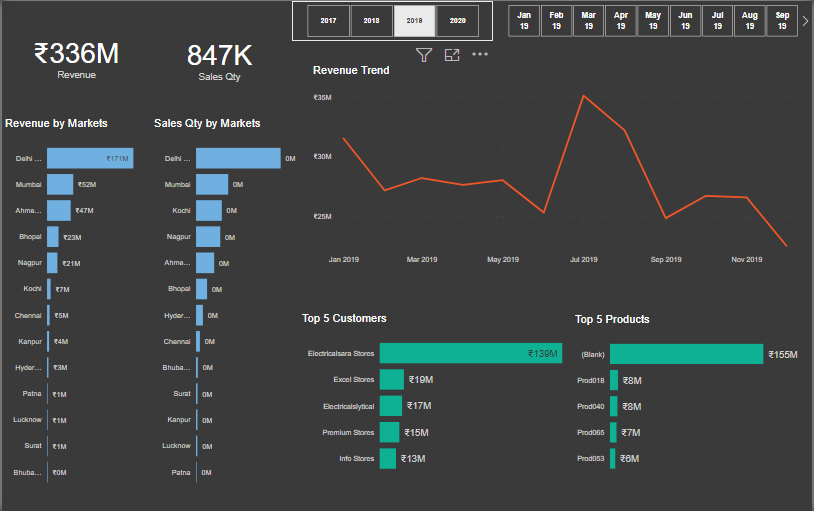

Layout of this report page (visuals, bound fields, positions):
{"tool":"powerbi","page":{"name":"Key Insights","canvas":[1350,850],"ordinal":0},"visuals":[{"type":"card","fields":{"Values":["BaseMeasures (2).Revenue"]},"box":[0,0,247.9,184.6],"z":0},{"type":"card","fields":{"Values":["BaseMeasures (2).Sales Qty"]},"box":[247.9,0,227.9,193.1],"z":1000},{"type":"barChart","title":"Revenue by Markets","fields":{"Y":["BaseMeasures (2).Revenue"],"Category":["sales markets.markets_name"]},"box":[0,193.1,247.9,631.9],"z":2000},{"type":"barChart","title":"Sales Qty by Markets","fields":{"Y":["BaseMeasures (2).Sales Qty"],"Category":["sales markets.markets_name"]},"box":[247.9,193.1,247.9,631.9],"z":3000},{"type":"slicer","fields":{"Values":["sales date.year"]},"box":[483.3,0,335,66.7],"z":4000},{"type":"slicer","fields":{"Values":["sales date.cy_date"]},"box":[818.6,0,531.7,66.5],"z":5000},{"type":"barChart","title":"Top 5 Customers","fields":{"Y":["BaseMeasures (2).Revenue"],"Category":["sales customers.custmer_name"]},"box":[495,518.3,446.7,285],"z":6000},{"type":"barChart","title":"Top 5 Products","fields":{"Y":["BaseMeasures (2).Revenue"],"Category":["sales products.product_code"]},"box":[950.7,519.2,399.5,282.8],"z":7000},{"type":"lineChart","title":"Revenue Trend","fields":{"Y":["BaseMeasures (2).Revenue"],"Category":["sales date.cy_date"]},"box":[513.3,105,825,341.7],"z":8000}]}

Visuals, with their boxes in screenshot pixels (x1, y1, x2, y2), scaled from the page's 1350x850 canvas onto the 814x511 screenshot:
card - BaseMeasures (2).Revenue: [left=0, top=0, right=149, bottom=111]
card - BaseMeasures (2).Sales Qty: [left=149, top=0, right=287, bottom=116]
"Revenue by Markets" barChart: [left=0, top=116, right=149, bottom=496]
"Sales Qty by Markets" barChart: [left=149, top=116, right=299, bottom=496]
slicer - sales date.year: [left=291, top=0, right=493, bottom=40]
slicer - sales date.cy_date: [left=494, top=0, right=813, bottom=40]
"Top 5 Customers" barChart: [left=298, top=312, right=568, bottom=483]
"Top 5 Products" barChart: [left=573, top=312, right=813, bottom=482]
"Revenue Trend" lineChart: [left=310, top=63, right=807, bottom=269]
